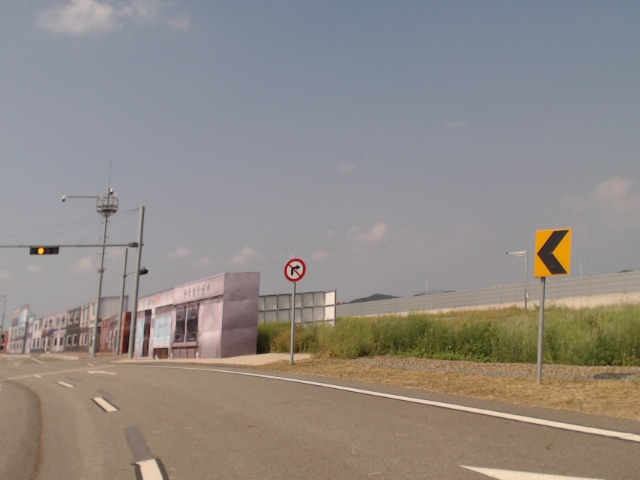orange_4: (27, 245, 59, 257)
